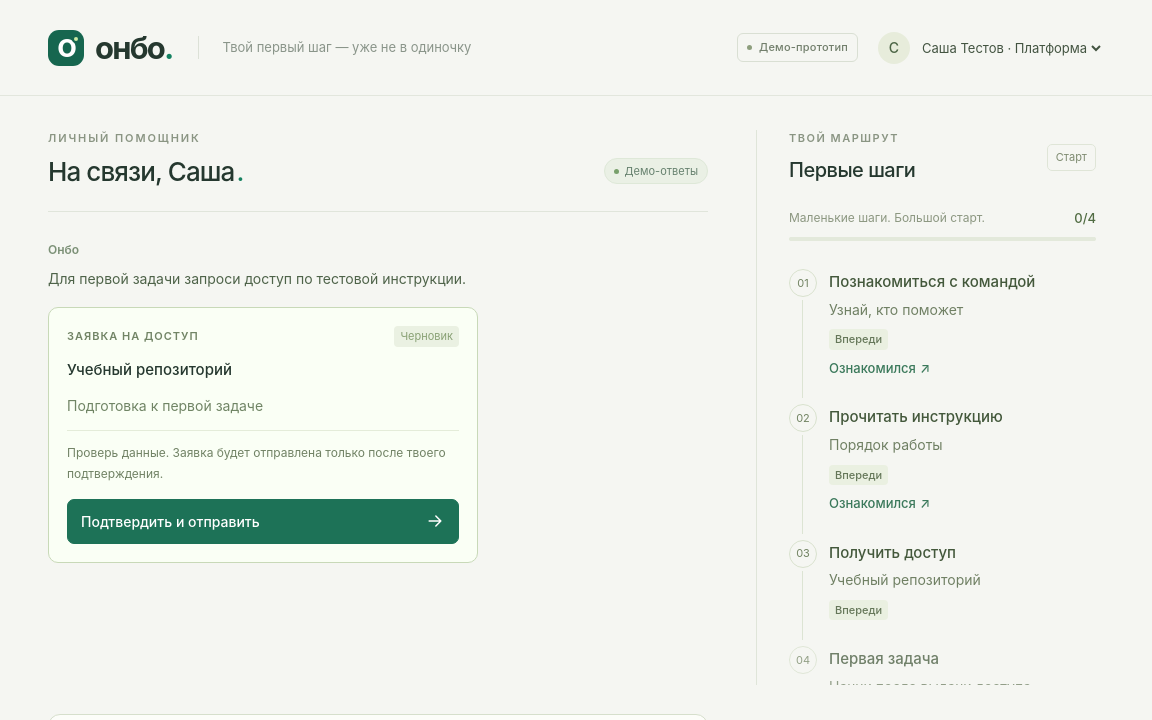
it: Onbo workspace › never reports a successful submission on a forbidden confirmation
Check: the heading "На связи, Саша." is shown, box [48, 154, 243, 188]
Step 1. Click the button "Подтвердить и отправить" → x=170, y=521, box [67, 499, 459, 544]
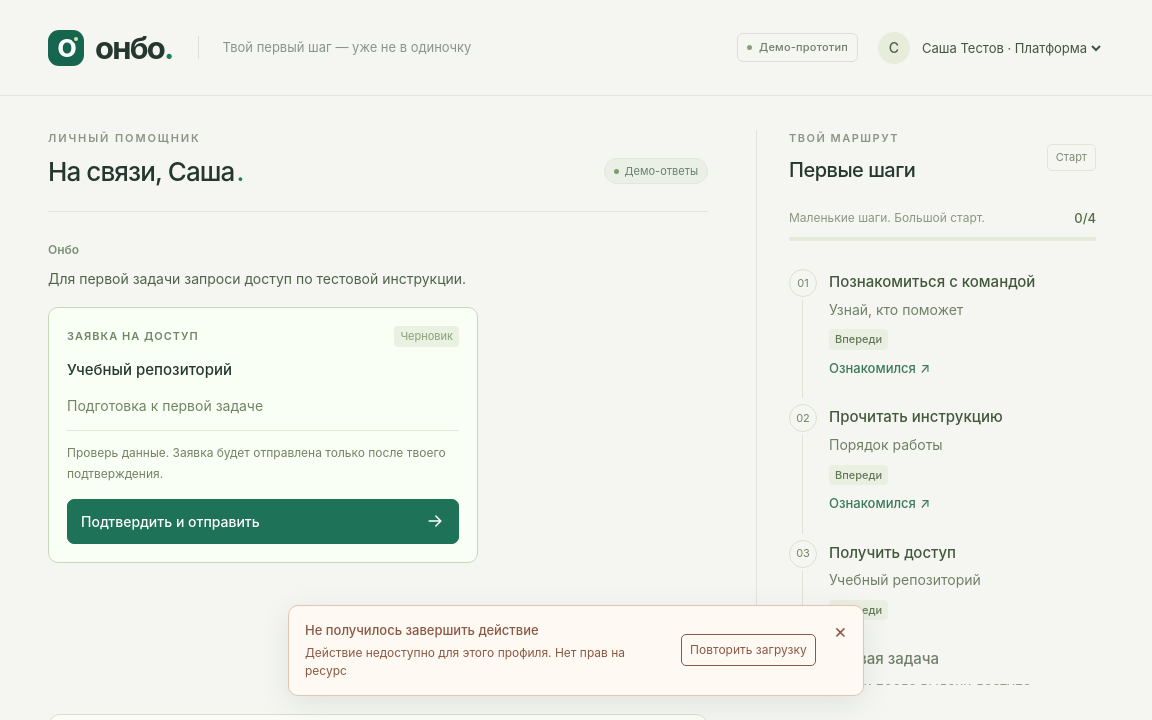
Check: the message shows "Действие недоступно", box [305, 645, 625, 678]
